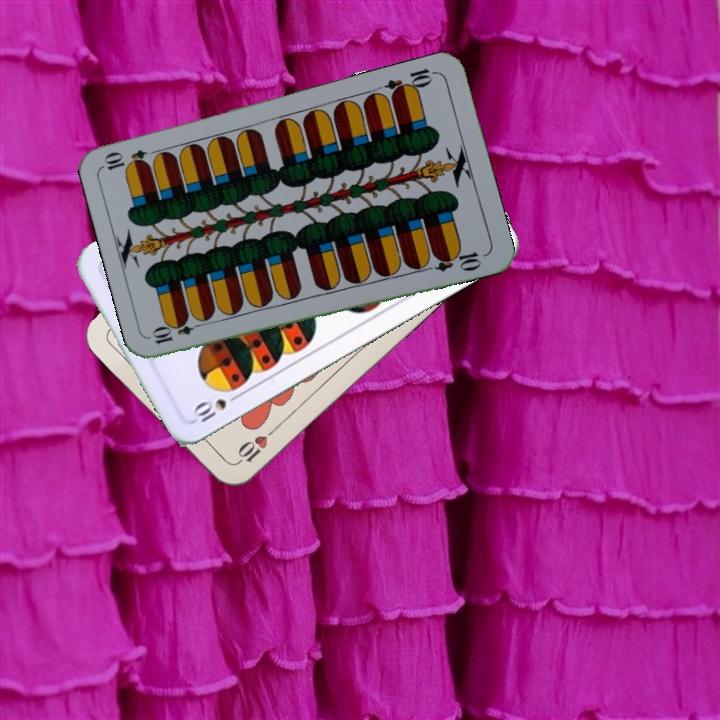E10: (381, 64, 439, 101), (148, 316, 207, 347)
H10: (231, 423, 280, 468)
S10: (189, 389, 244, 425)
